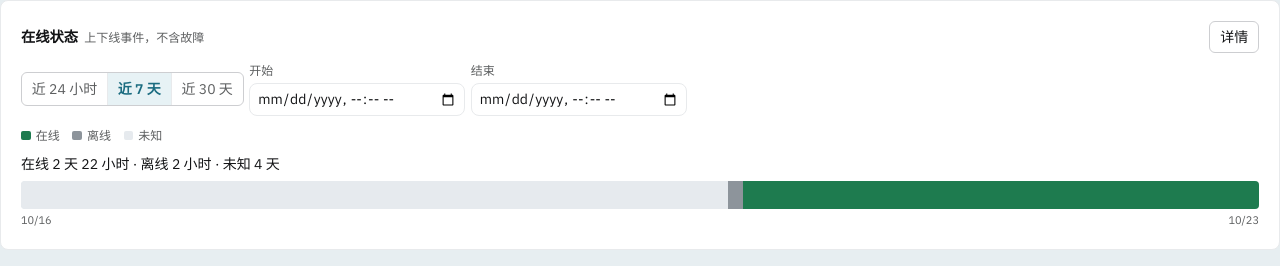
Test: ConnectivityPanel › draws a 7-day ribbon and shows the hovered stretch
The image size is (1280, 266).
Expected: the text "在线 2 天 22 小时 · 离线 2 小时 · 未知 4 天" is shown, [21,155,280,173]
Expected: the text "上下线事件，不含故障" is shown, [84,30,204,45]
Hover over the 2nd element with class "connectivity-seg" at [736, 194], box [728,180,743,208]
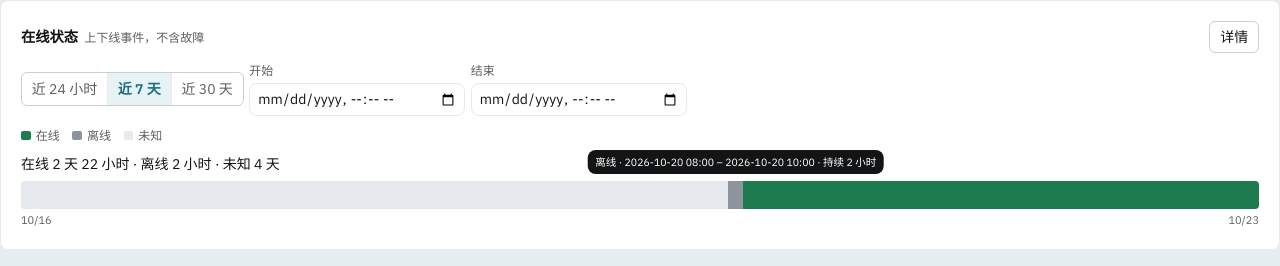
Result: the tooltip shows "离线" at [595,155,876,169]
Result: the tooltip shows "2026-10-20 08:00" at [595,155,876,169]
Result: the tooltip shows "2026-10-20 10:00" at [595,155,876,169]
